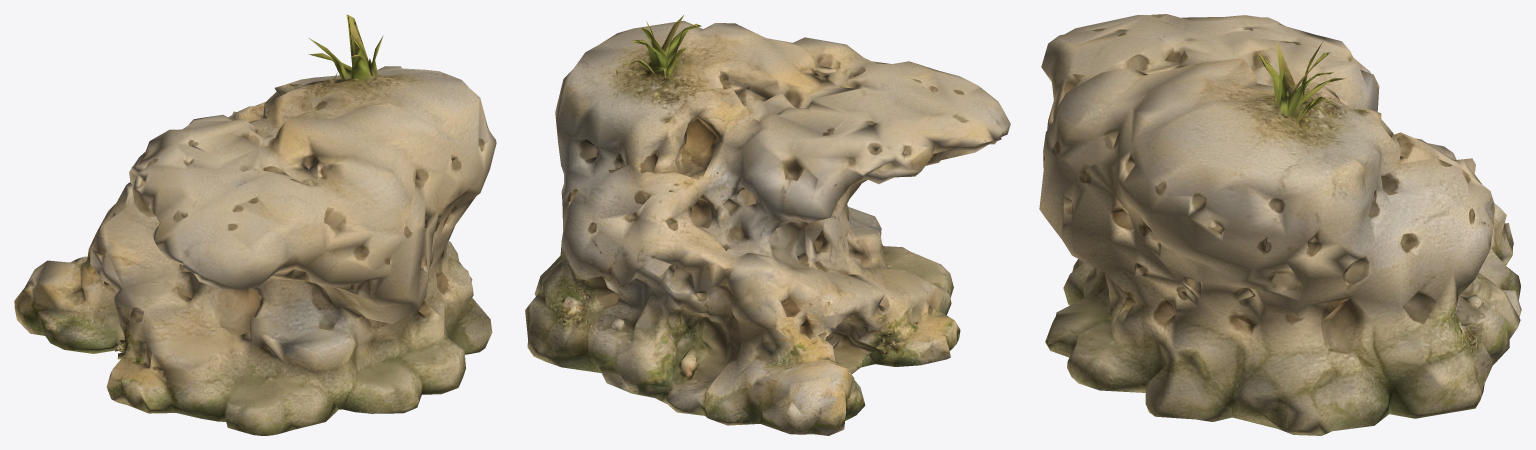
The model's file is env-coral.glb.
3 renders of one model, left to right at view 1: azimuth 30°, elevation 25°; view 2: azimuth 150°, elevation 25°; view 3: azimuth 270°, elevation 25°, orthographic. The views are drawn at different scales.
Parts seen in each view (by area): view 1: tripo_node_fd98fe63-8a17-4f03-9e3f-b50995866508; view 2: tripo_node_fd98fe63-8a17-4f03-9e3f-b50995866508; view 3: tripo_node_fd98fe63-8a17-4f03-9e3f-b50995866508.
Part boxes in pixels (x1,y1,x2,y2): tripo_node_fd98fe63-8a17-4f03-9e3f-b50995866508: (14, 14, 496, 435); tripo_node_fd98fe63-8a17-4f03-9e3f-b50995866508: (525, 15, 1010, 435); tripo_node_fd98fe63-8a17-4f03-9e3f-b50995866508: (1039, 14, 1521, 435).
Bounding box in the file's own units: 1 × 0.757 × 0.9755.
Materials: 1 (1 with a texture image).
